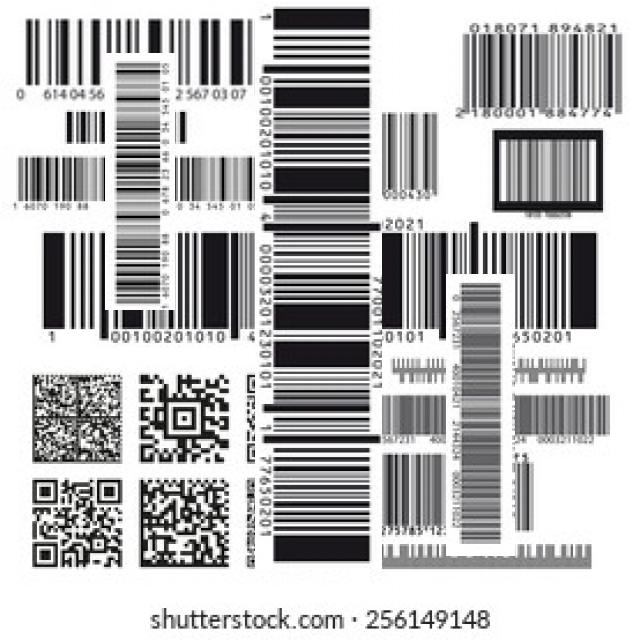Barkod: (143, 109, 494, 458), (16, 9, 359, 106), (392, 327, 568, 503), (58, 100, 222, 264), (451, 10, 634, 126)
